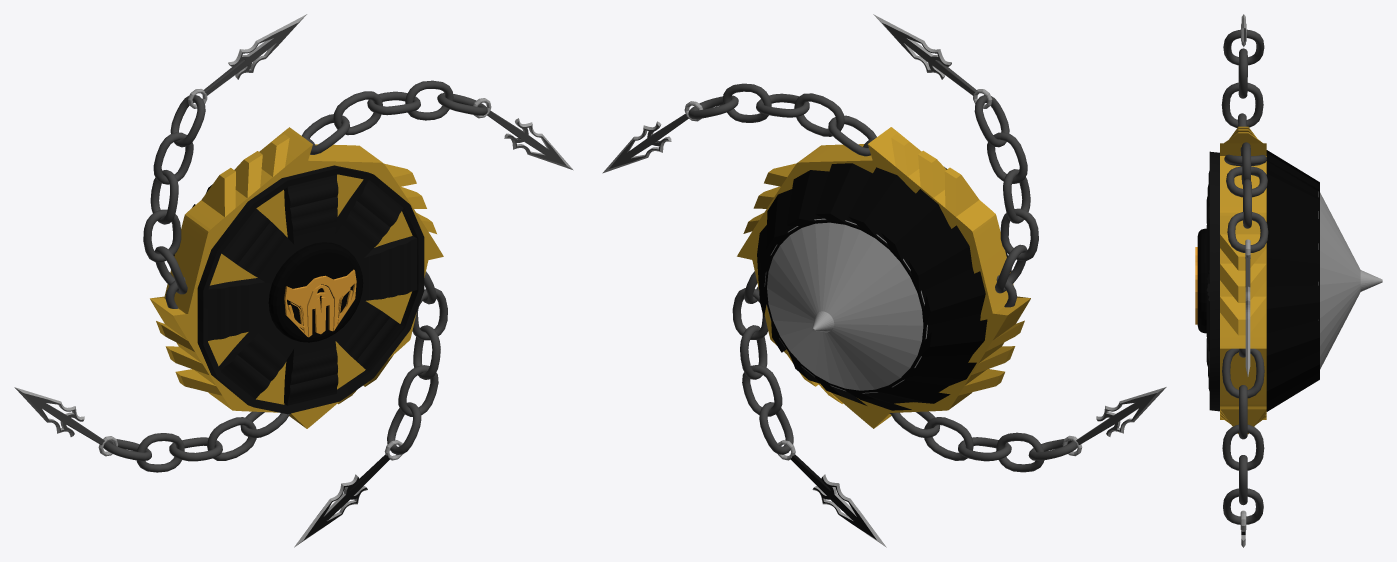
Rendered from beyblade.fbx.
3 renders of one model, left to right at view 1: azimuth 30°, elevation 25°; view 2: azimuth 150°, elevation 25°; view 3: azimuth 270°, elevation 25°, orthographic.
Visible parts, largest first — view 1: Cube, BezierCurve.003, Cylinder, Torus.002, Torus.003, Torus.001, Torus, Plane, Torus.004, Torus.007, Torus.008, Torus.006; view 2: Cylinder.001, Cylinder.002, BezierCurve.003, Torus.002, Torus.003, Torus.001, Torus, Torus.007, Torus.004, Torus.008, Torus.006; view 3: Cylinder.001, BezierCurve.003, Cylinder.002, Torus, Cube, Torus.003, Torus.002, Cylinder, Torus.006.
Part boxes in pixels (left/top/right/bottom): Cube: left=197, top=165, right=424, bottom=414; BezierCurve.003: left=150, top=127, right=443, bottom=428; Cylinder: left=268, top=242, right=363, bottom=342; Torus.002: left=143, top=95, right=205, bottom=308; Torus.003: left=301, top=80, right=487, bottom=154; Torus.001: left=103, top=411, right=290, bottom=472; Torus: left=387, top=271, right=447, bottom=454; Plane: left=284, top=269, right=356, bottom=337; Torus.004: left=188, top=14, right=306, bottom=108; Torus.007: left=294, top=440, right=402, bottom=547; Torus.008: left=14, top=387, right=117, bottom=456; Torus.006: left=473, top=98, right=573, bottom=170; Cylinder.001: left=757, top=163, right=987, bottom=410; Cylinder.002: left=764, top=218, right=927, bottom=393; BezierCurve.003: left=737, top=127, right=1030, bottom=428; Torus.002: left=974, top=95, right=1038, bottom=307; Torus.003: left=688, top=83, right=876, bottom=156; Torus.001: left=889, top=411, right=1077, bottom=472; Torus: left=732, top=271, right=793, bottom=454; Torus.007: left=778, top=440, right=886, bottom=547; Torus.004: left=873, top=14, right=992, bottom=108; Torus.008: left=1062, top=387, right=1166, bottom=456; Torus.006: left=602, top=101, right=702, bottom=173; Cylinder.001: left=1266, top=150, right=1319, bottom=411; BezierCurve.003: left=1220, top=126, right=1266, bottom=434; Cylinder.002: left=1318, top=191, right=1382, bottom=369; Torus: left=1222, top=348, right=1264, bottom=524; Cube: left=1206, top=151, right=1219, bottom=411; Torus.003: left=1224, top=142, right=1268, bottom=252; Torus.002: left=1221, top=29, right=1264, bottom=127; Cylinder: left=1197, top=228, right=1207, bottom=333; Torus.006: left=1245, top=239, right=1250, bottom=376.
Size of the model in its own units: 689 by 621 by 201.
